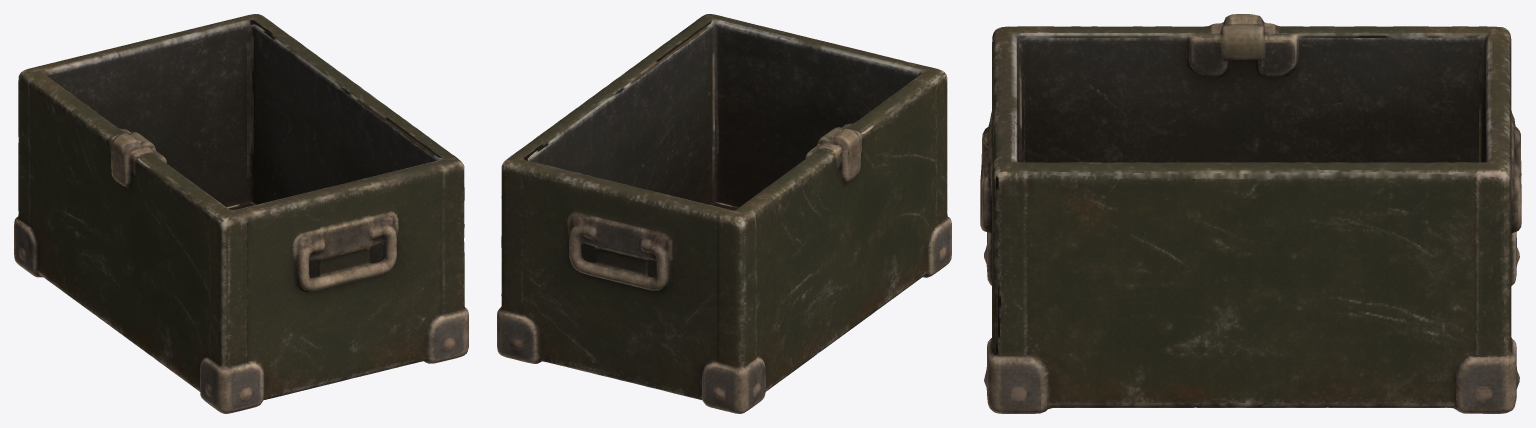
File: raw.glb
The picture shows the model from 3 angles, left to right: view 1: azimuth 30°, elevation 25°; view 2: azimuth 150°, elevation 25°; view 3: azimuth 270°, elevation 25°; orthographic projection. The views are drawn at different scales.
Size of the model in its own units: 0.6759 by 0.5207 by 0.9999.
Materials: 1 (1 with a texture image).
